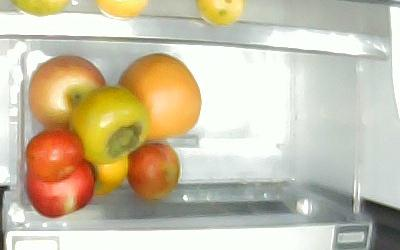apple: (27, 53, 106, 129), (23, 155, 96, 218)
grapefruit: (116, 51, 202, 140)
persimmon: (67, 84, 150, 163), (91, 151, 129, 196)
prune: (24, 127, 84, 182), (126, 140, 180, 200)
